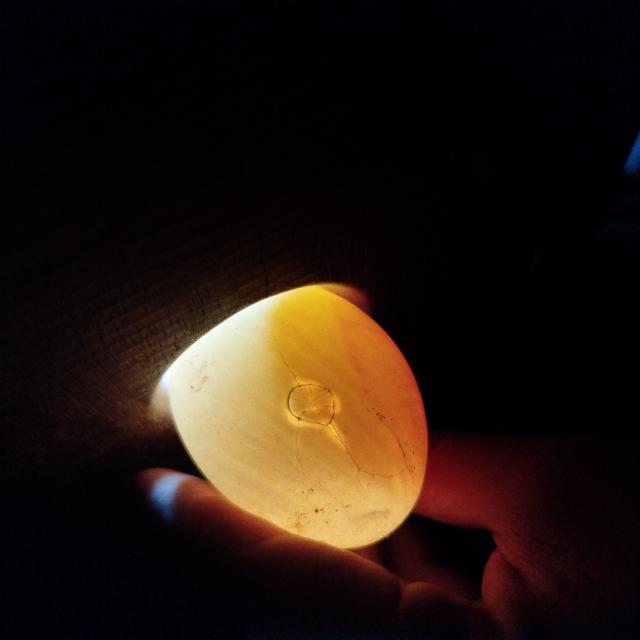Gema Quebrada: (269, 285, 428, 488)
Rachadura: (288, 384, 335, 425)
